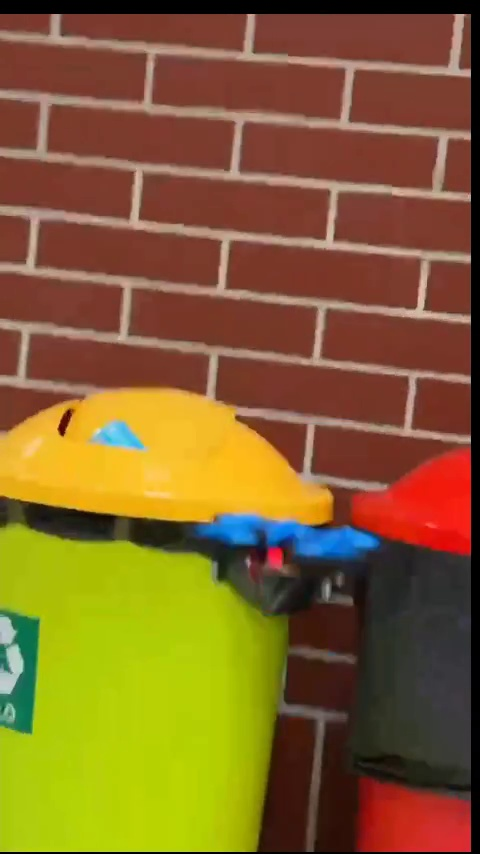drone: (198, 509, 381, 604)
